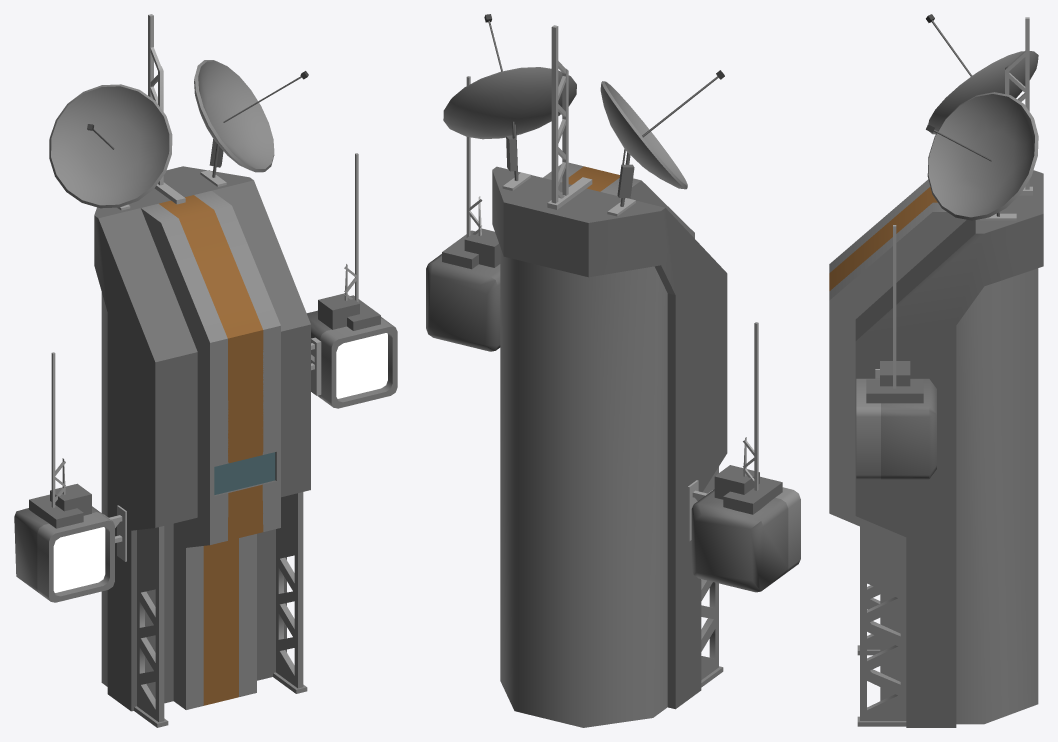
Rendered from computer_large.glb.
The picture shows the model from 3 angles, left to right: view 1: azimuth 30°, elevation 25°; view 2: azimuth 150°, elevation 25°; view 3: azimuth 270°, elevation 25°; orthographic projection. The views are drawn at different scales.
Parts seen in each view (by area): view 1: Computer_Large; view 2: Computer_Large; view 3: Computer_Large.
Boxes of the visible parts, <box> form: Computer_Large: <box>14,14,397,727</box>; Computer_Large: <box>426,14,800,727</box>; Computer_Large: <box>829,14,1043,727</box>.
Size of the model in its own units: 1.29 by 2.38 by 0.6898.
